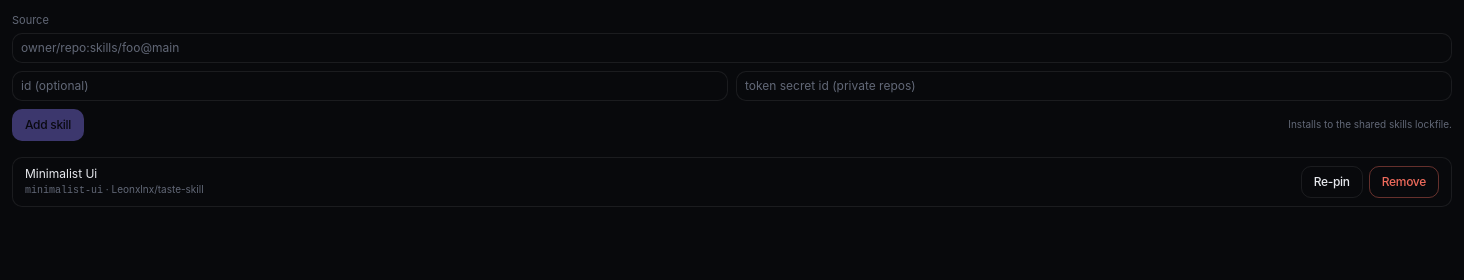
SkillRegistry (SKILL-INSTALL UI) › submits the add form with the typed source and refetches the list
Expected: the text "Minimalist Ui" is shown, [25,166,97,180]
Type "Leonxlnx/taste-skill:skills/taste-skill@main" into the field named "Skill source" at (732, 48), box [12,32,1452,62]
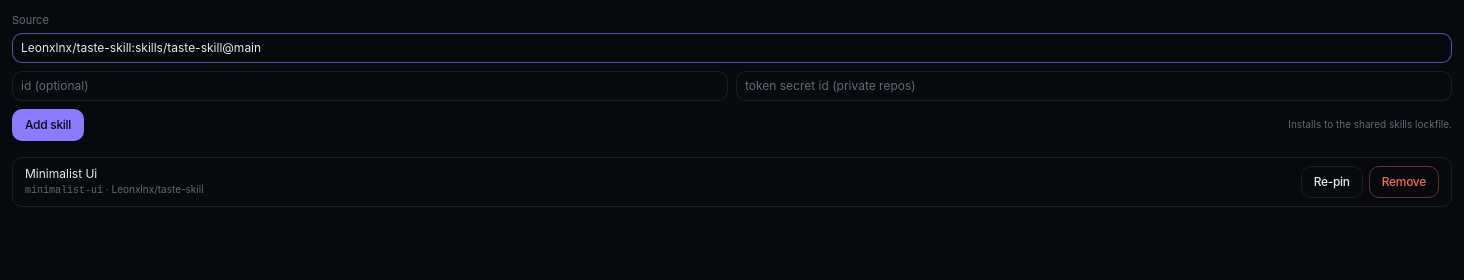
Click the button "Add skill" at (48, 124), box [12,108,84,140]
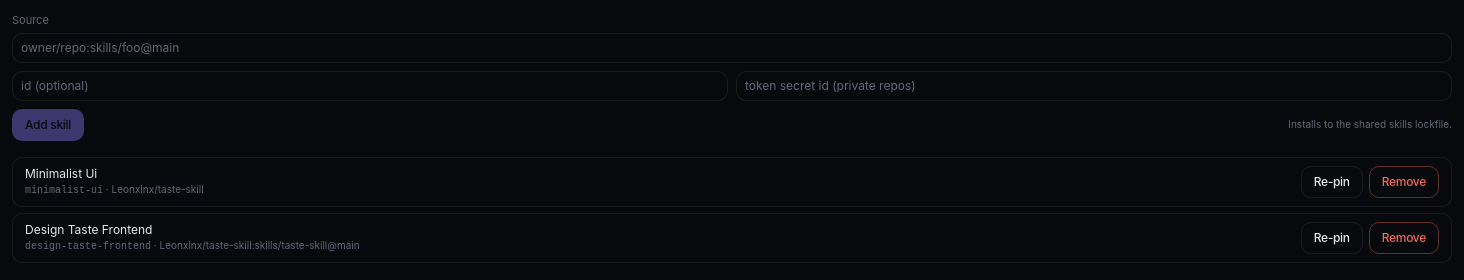
Now the text "Design Taste Frontend" is shown, box [25,222,152,236]
